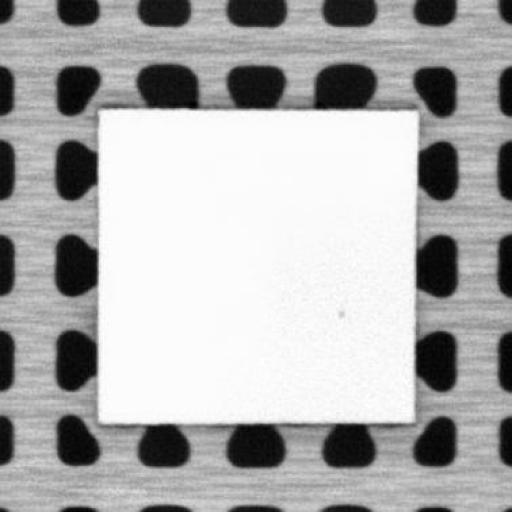DIE_INK: (333, 304, 348, 319)
